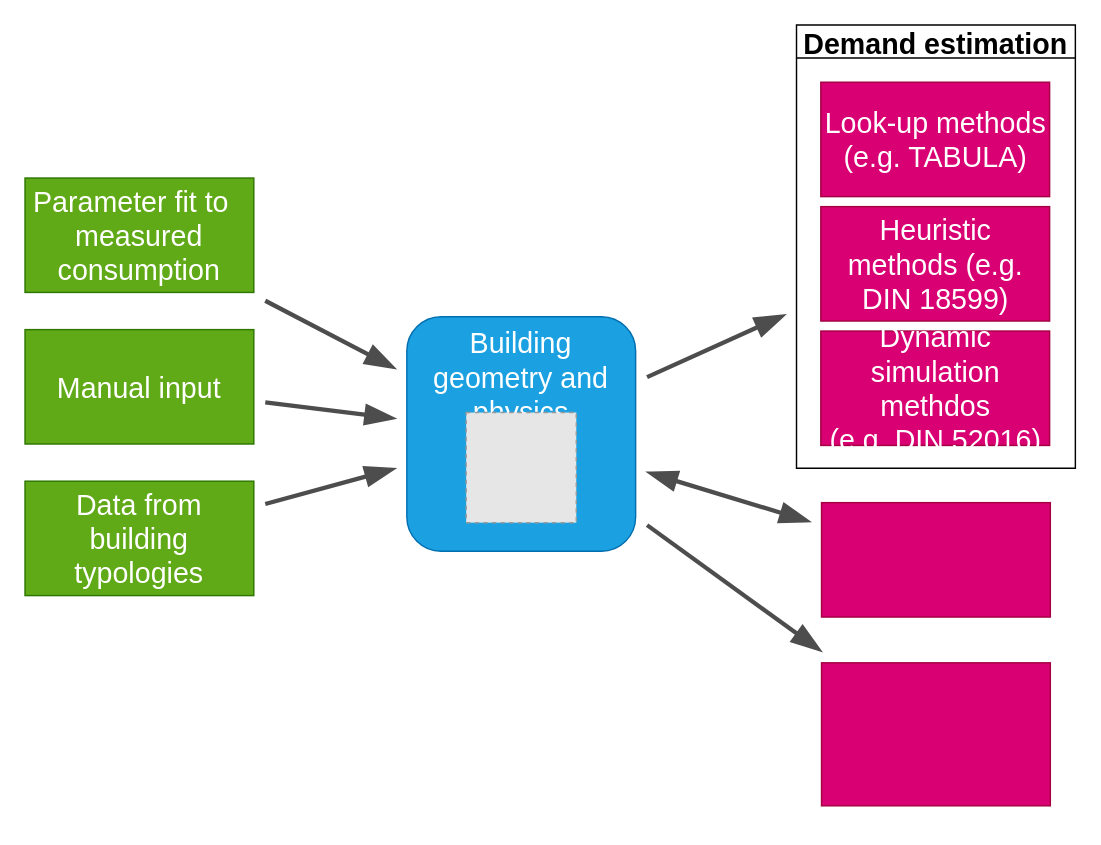
This 1101x845 diagram has some shape labels left out. Grey dashed boxes stand in for pictures. The shapes that lost their labels are listed below. From the top down, each one's centre as x and y in pixels, then its label:
[935,559]: Building refurbishment option analysis
[935,733]: Calculation of RE potential at building and site (PV, ST, Geothermal)
